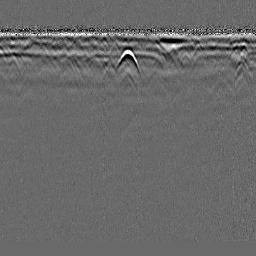cavity: (115, 47, 141, 74)
